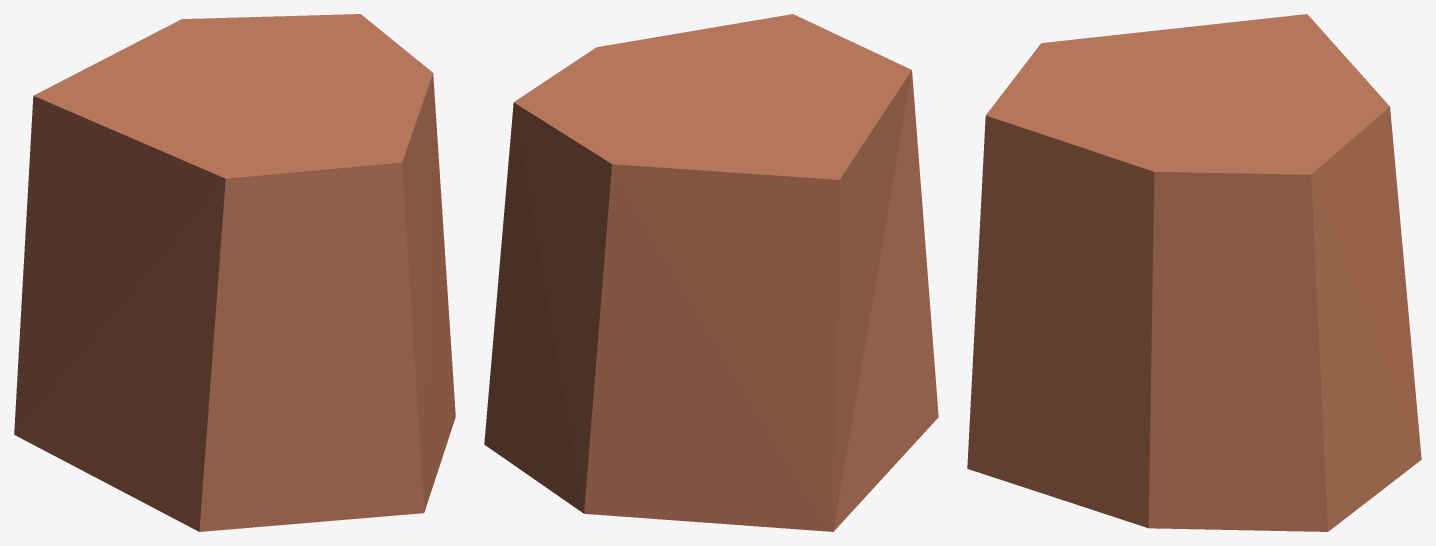
The model's file is west_rock11.FBX.
3 renders of one model, left to right at view 1: azimuth 30°, elevation 25°; view 2: azimuth 150°, elevation 25°; view 3: azimuth 270°, elevation 25°, orthographic.
Visible parts, largest first — view 1: west_rock11; view 2: west_rock11; view 3: west_rock11.
Boxes of the visible parts, x1,y1,x2,y2 form: west_rock11: (14,14,455,531); west_rock11: (484,14,938,531); west_rock11: (967,14,1421,531).
Bounding box in the file's own units: 1556 × 1445 × 1714.
Materials: 1 (1 with a texture image).
